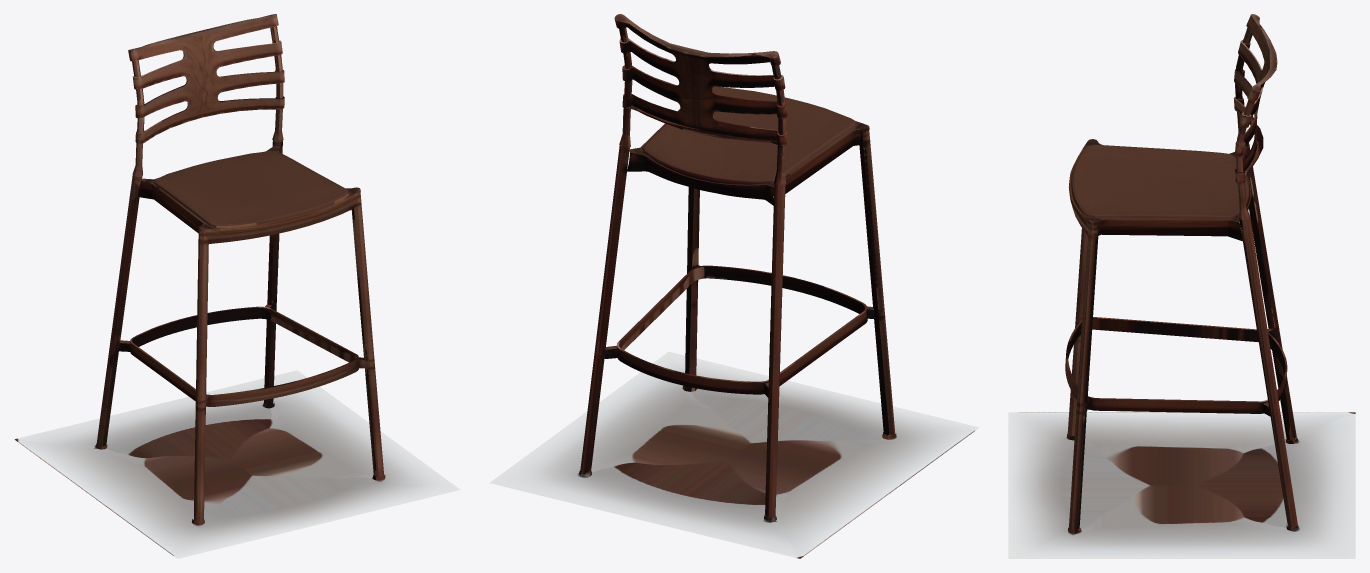
The model's file is edited_mesh.glb.
3 views of the same model, side by side, from view 1: azimuth 30°, elevation 25°; view 2: azimuth 150°, elevation 25°; view 3: azimuth 270°, elevation 25° (orthographic). The views are drawn at different scales.
Visible parts, largest first — view 1: normalized_model.obj; view 2: normalized_model.obj; view 3: normalized_model.obj.
Boxes of the visible parts, x1=… form: normalized_model.obj: x1=14, y1=14, x2=460, y2=558; normalized_model.obj: x1=489, y1=14, x2=979, y2=558; normalized_model.obj: x1=1008, y1=14, x2=1355, y2=558.
Size of the model in its own units: 1.45 by 2 by 1.45.
Materials: 1 (1 with a texture image).
